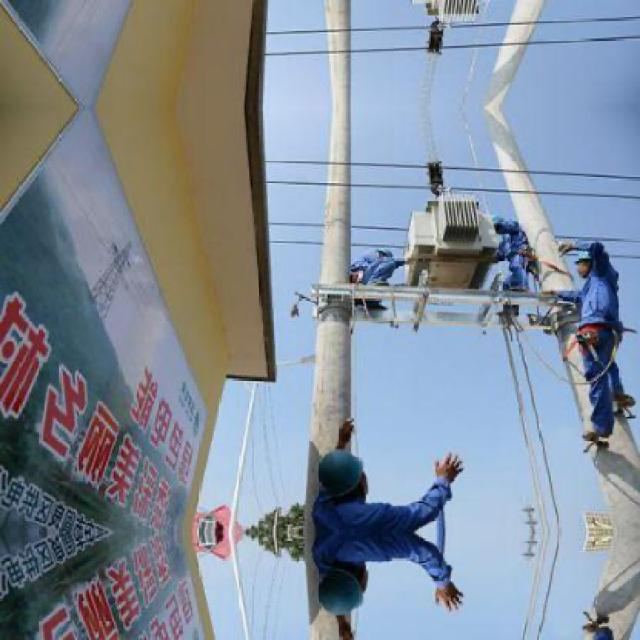con casco: (280, 437, 406, 517), (540, 235, 599, 304)
